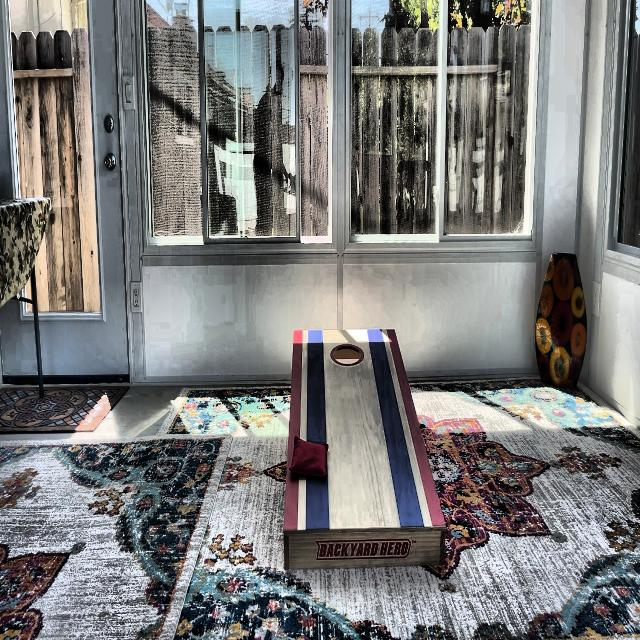board: (290, 330, 410, 529)
hole: (330, 343, 364, 366)
red-bean-bag: (290, 434, 328, 478)
